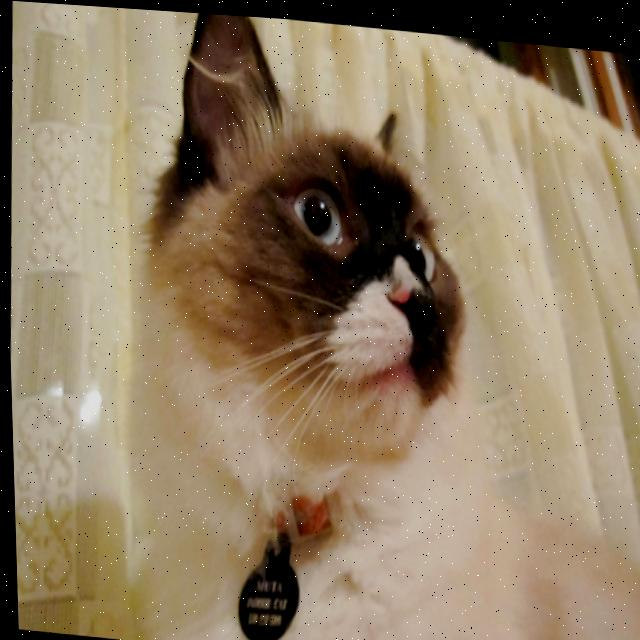Ragdoll: (94, 5, 640, 640)
